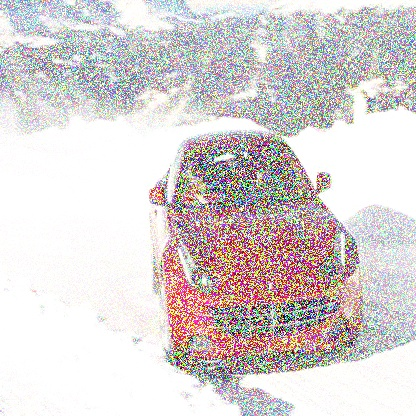Vehicle: (149, 130, 364, 367)
